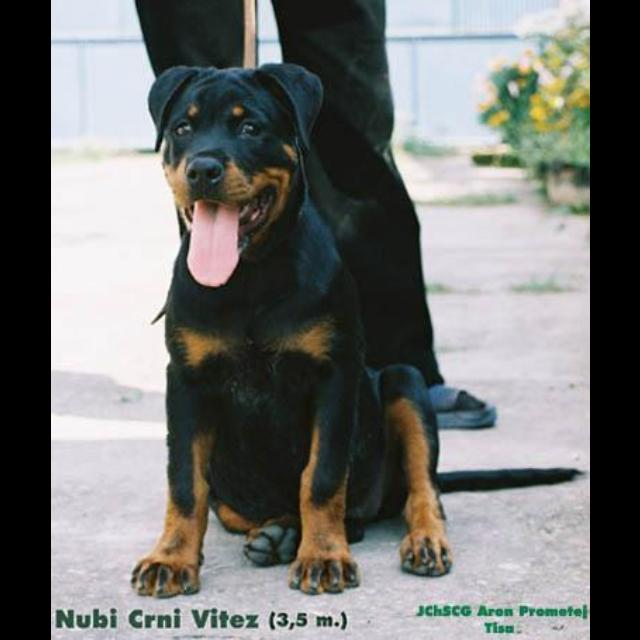person: (129, 2, 499, 433)
rottweiler: (129, 62, 584, 599)
